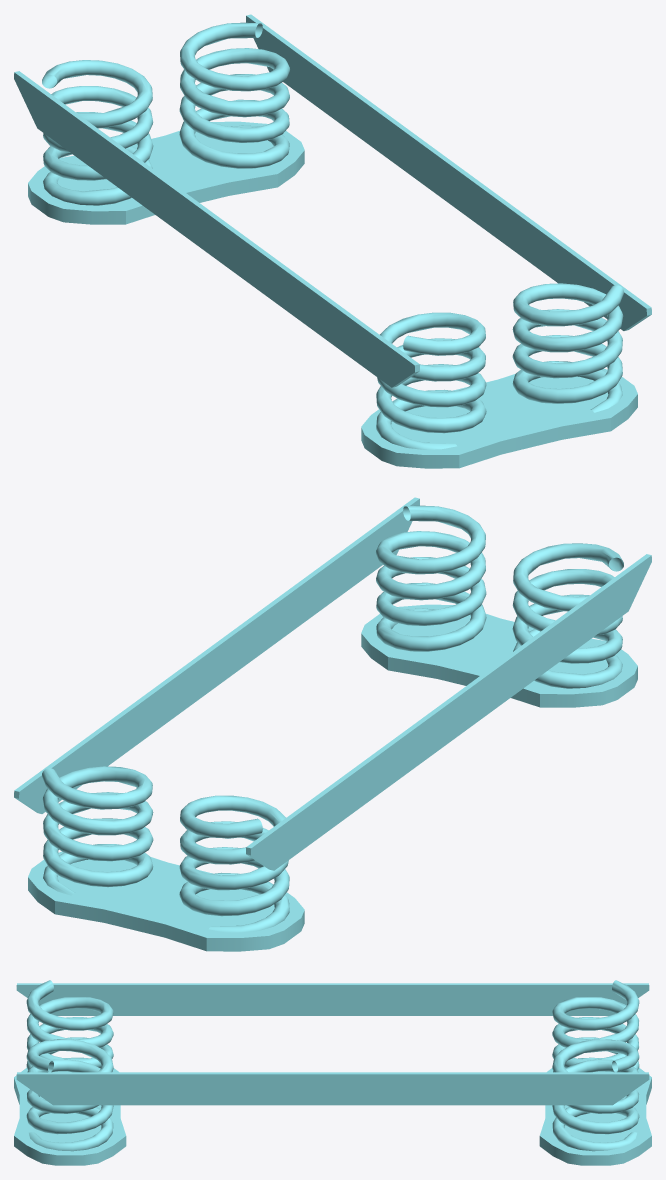
The model's file is spm.gltf.
3 views of the same model, one above another, from view 1: azimuth 30°, elevation 25°; view 2: azimuth 150°, elevation 25°; view 3: azimuth 270°, elevation 25° (orthographic). The views are drawn at different scales.
Parts seen in each view (by area): view 1: Suspension spring; view 2: Suspension spring; view 3: Suspension spring.
Part boxes in pixels (x1,y1,x2,y2): Suspension spring: (14, 14, 651, 468); Suspension spring: (14, 497, 651, 951); Suspension spring: (14, 980, 651, 1165).
Size of the model in its own units: 0.4368 by 0.2335 by 1.21.
